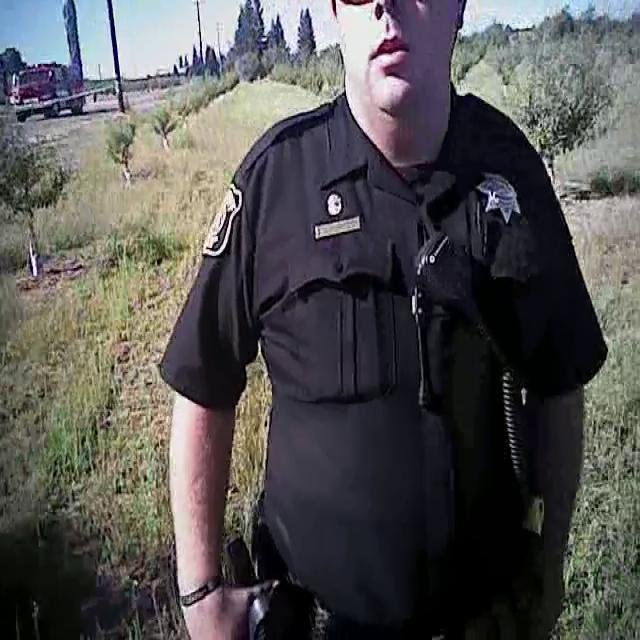gun: (209, 530, 289, 640)
